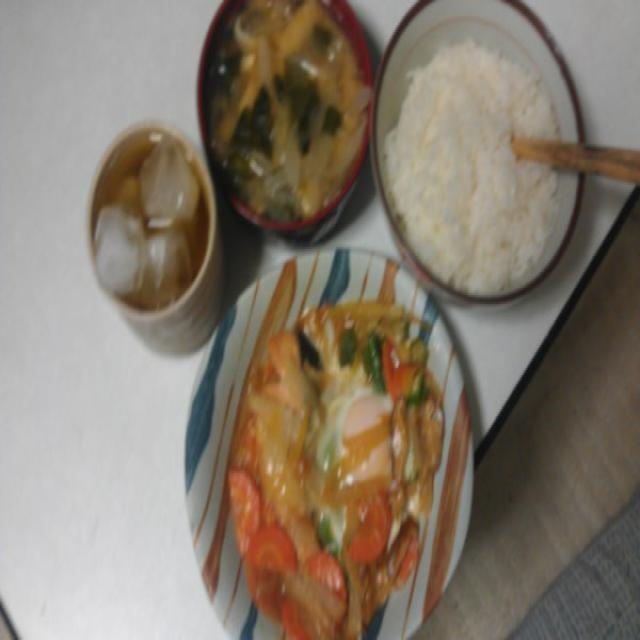Rice: (386, 34, 574, 274)
